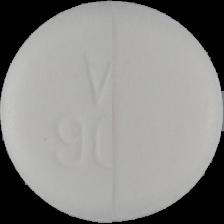42254-353: (0, 0, 224, 224)
